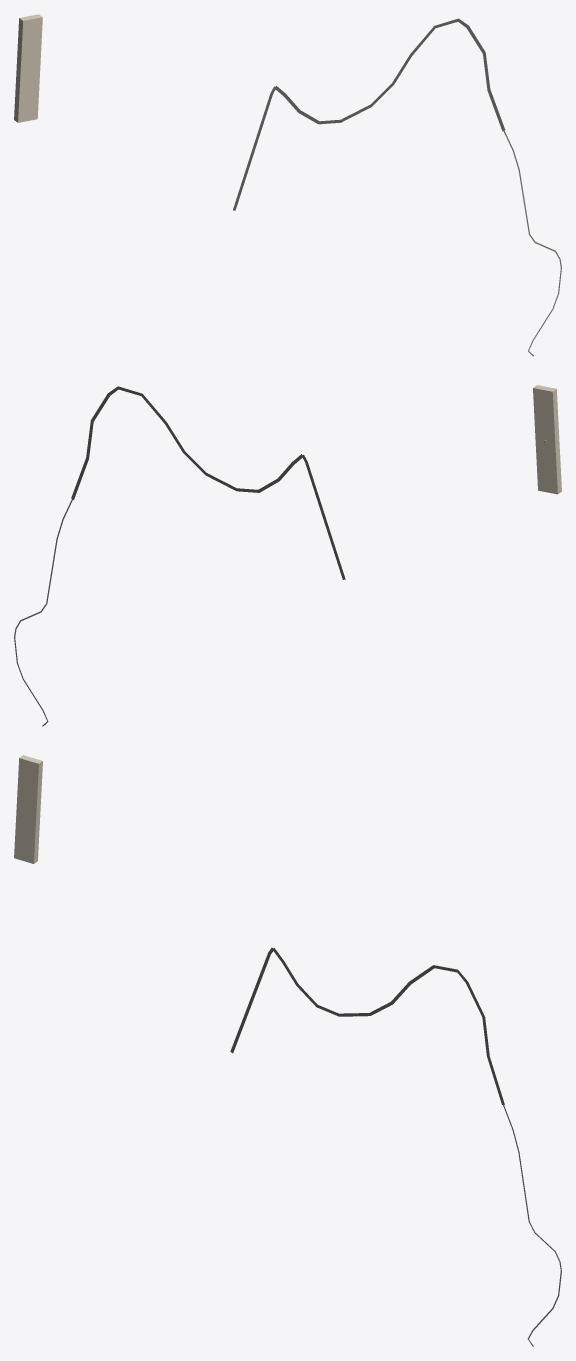
File: historic-palestine-15_37_3565_3318.glb
The picture shows the model from 3 angles, top to bottom: view 1: azimuth 30°, elevation 25°; view 2: azimuth 150°, elevation 25°; view 3: azimuth 330°, elevation 25°; orthographic projection.
Visible parts, largest first — view 1: Building_, Road .002, Road, Road .001; view 2: Building_, Road .002, Road, Road .001; view 3: Building_, Road .002.
Boxes of the visible parts, <box> form: Building_: <box>14,14,42,122</box>; Road .002: <box>275,18,505,131</box>; Road: <box>503,130,561,356</box>; Road .001: <box>233,86,276,210</box>; Building_: <box>533,385,561,494</box>; Road .002: <box>71,386,303,499</box>; Road: <box>14,499,72,726</box>; Road .001: <box>302,455,345,579</box>; Building_: <box>14,755,42,863</box>; Road .002: <box>272,948,504,1104</box>.
Bounding box in the file's own units: 582 × 471 × 8.7.
